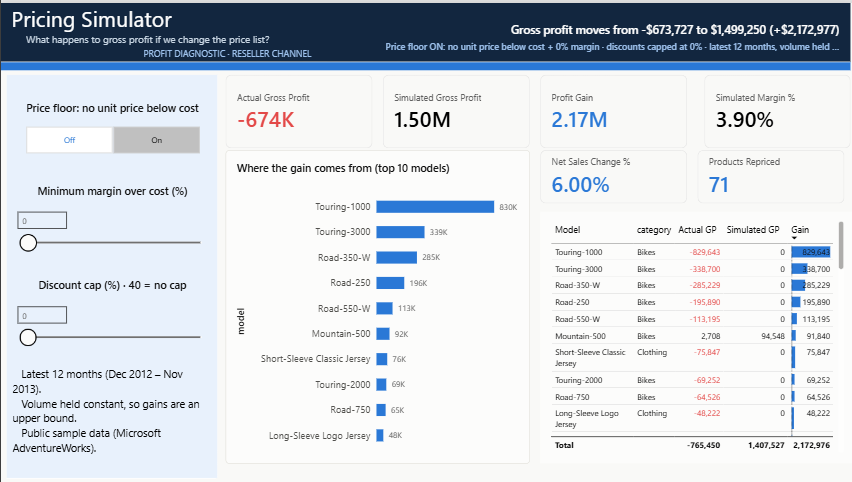

What the dashboard file says about the page in this screenshot:
{"tool":"powerbi","page":{"name":"Pricing Simulator","canvas":[1280,720],"ordinal":0},"visuals":[{"type":"shape","box":[0,0,1273,88],"z":0},{"type":"textbox","box":[214.2,66.2,274.6,21.4],"z":1000},{"type":"shape","box":[8.5,107.3,315.5,604],"z":1000,"group":"g1"},{"type":"cardVisual","fields":{"Data":["_Measures.Headline"]},"box":[712.8,11.7,560.9,54.5],"z":2000},{"type":"slicer","title":"   Minimum margin over cost (%)","fields":{"Values":[" Floor Margin. Floor Margin"]},"box":[17.8,270.3,299.9,109.1],"z":2000,"group":"g1"},{"type":"cardVisual","fields":{"Data":["_Measures.Scenario Description"]},"box":[560.9,52.6,712.8,25.3],"z":3000},{"type":"slicer","title":"   Discount cap (%) · 40 = no cap","fields":{"Values":["Discount Cap.Discount Cap"]},"box":[17.8,411.7,299.9,114.9],"z":3000,"group":"g1"},{"type":"shape","box":[0,88,1273,12],"z":4000},{"type":"textbox","box":[15,2,500.5,44.8],"z":5000},{"type":"textbox","box":[37,44.8,600,26],"z":6000},{"type":"cardVisual","fields":{"Data":["_Measures.Actual Gross Profit"]},"box":[336,108,220,110],"z":7000},{"type":"slicer","title":"   Price floor: no unit price below cost","fields":{"Values":["Price Floor.Apply"]},"box":[17.8,144.2,299.9,81.8],"z":7000,"group":"g1"},{"type":"cardVisual","fields":{"Data":["_Measures.Simulated Gross Profit"]},"box":[572,108,220,110],"z":8000},{"type":"textbox","box":[17.8,544.6,299.9,138.3],"z":8000,"group":"g1"},{"type":"cardVisual","fields":{"Data":["_Measures.Profit Gain"]},"box":[808,108,220,110],"z":9000},{"type":"cardVisual","fields":{"Data":["_Measures.Simulated Margin %"]},"box":[1054.5,107.3,219.8,110.7],"z":10000},{"type":"group","id":"g1","title":"Group 1","box":[8.5,107.3,315.2,604.8],"z":11000},{"type":"clusteredBarChart","title":"Where the gain comes from (top 10 models)","fields":{"Category":["Product.model"],"Y":["_Measures.Profit Gain"]},"box":[336,220,456,470],"z":11001},{"type":"cardVisual","fields":{"Data":["_Measures.Net Sales Change %"]},"box":[808,220,220,80],"z":11002},{"type":"cardVisual","fields":{"Data":["_Measures.Products Repriced"]},"box":[1044,220,220,80],"z":11003},{"type":"tableEx","fields":{"Values":["Product.model","Product.category","_Measures.Actual Gross Profit","_Measures.Simulated Gross Profit","_Measures.Profit Gain"]},"box":[807.9,312.6,471.4,377.5],"z":11004}]}

Visuals, with their boxes in screenshot pixels (x1, y1, x2, y2), scaled from the page's 1280x720 canvas onto the 852x482 screenshot:
shape: pyautogui.locateOnScreen(0, 0, 847, 59)
textbox: pyautogui.locateOnScreen(143, 44, 325, 59)
shape: pyautogui.locateOnScreen(6, 72, 216, 476)
cardVisual - _Measures.Headline: pyautogui.locateOnScreen(474, 8, 848, 44)
"   Minimum margin over cost (%)" slicer: pyautogui.locateOnScreen(12, 181, 211, 254)
cardVisual - _Measures.Scenario Description: pyautogui.locateOnScreen(373, 35, 848, 52)
"   Discount cap (%) · 40 = no cap" slicer: pyautogui.locateOnScreen(12, 276, 211, 353)
shape: pyautogui.locateOnScreen(0, 59, 847, 67)
textbox: pyautogui.locateOnScreen(10, 1, 343, 31)
textbox: pyautogui.locateOnScreen(25, 30, 424, 47)
cardVisual - _Measures.Actual Gross Profit: pyautogui.locateOnScreen(224, 72, 370, 146)
"   Price floor: no unit price below cost" slicer: pyautogui.locateOnScreen(12, 97, 211, 151)
cardVisual - _Measures.Simulated Gross Profit: pyautogui.locateOnScreen(381, 72, 527, 146)
textbox: pyautogui.locateOnScreen(12, 365, 211, 457)
cardVisual - _Measures.Profit Gain: pyautogui.locateOnScreen(538, 72, 684, 146)
cardVisual - _Measures.Simulated Margin %: pyautogui.locateOnScreen(702, 72, 848, 146)
"Group 1" group: pyautogui.locateOnScreen(6, 72, 215, 477)
"Where the gain comes from (top 10 models)" clusteredBarChart: pyautogui.locateOnScreen(224, 147, 527, 462)
cardVisual - _Measures.Net Sales Change %: pyautogui.locateOnScreen(538, 147, 684, 201)
cardVisual - _Measures.Products Repriced: pyautogui.locateOnScreen(695, 147, 841, 201)
tableEx - Product.model x Product.category: pyautogui.locateOnScreen(538, 209, 851, 462)
